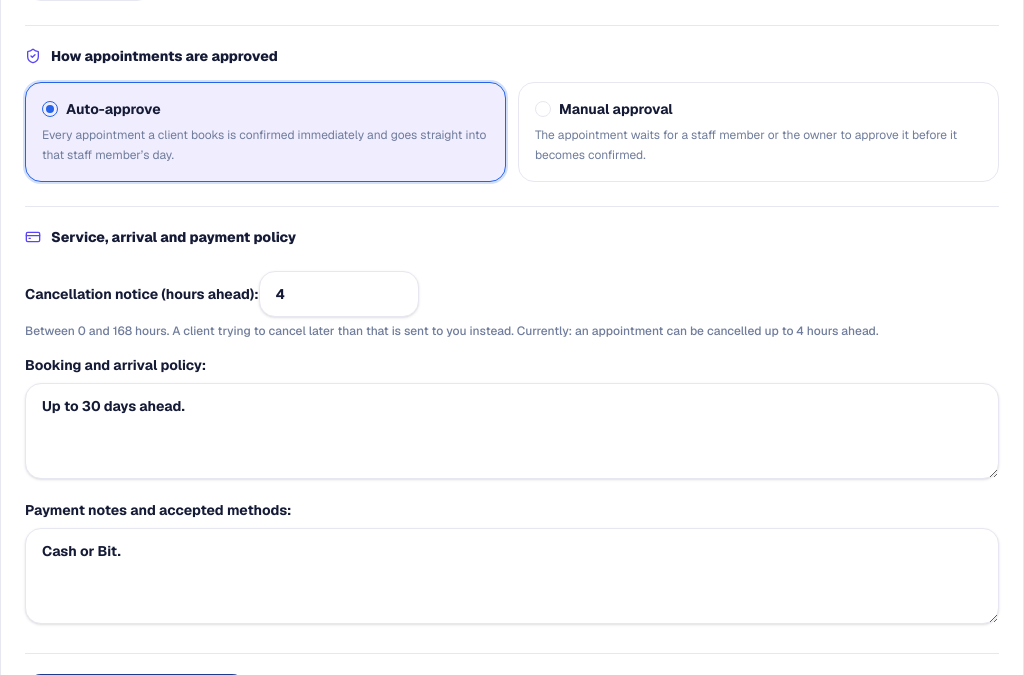
Scenario: business settings screen › echoes the cancellation window back as the sentence clients are told
(page scrolled)
Replace the text in the number field showing "4" with "12": (339, 294) [259,271,419,317]
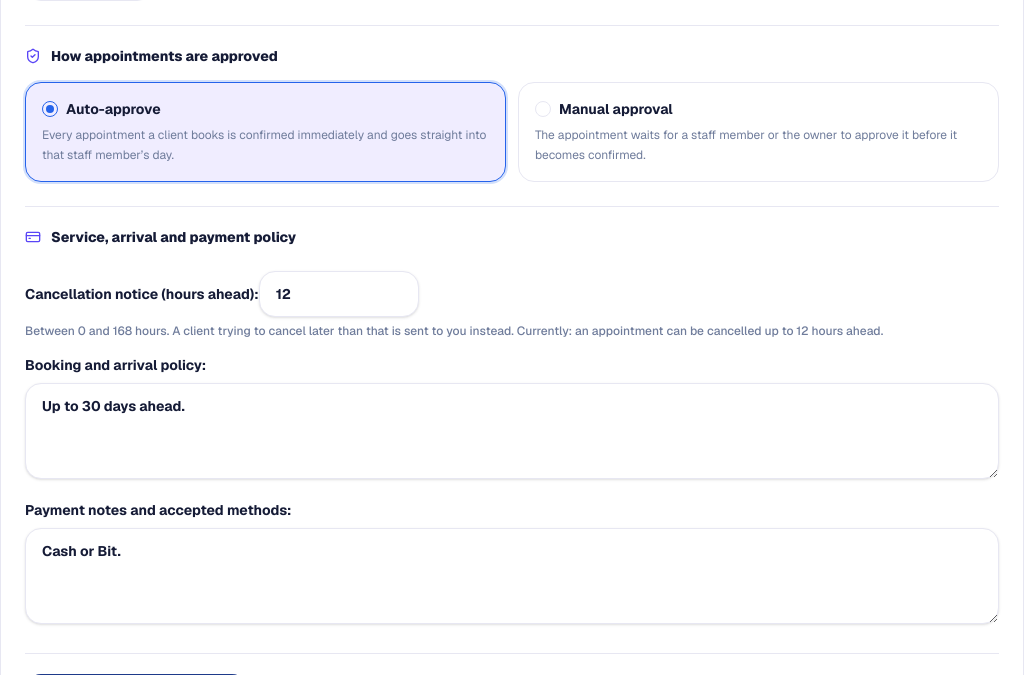
Result: the text "cancelled up to 12 hours ahead" is shown at [25,323,883,339]
